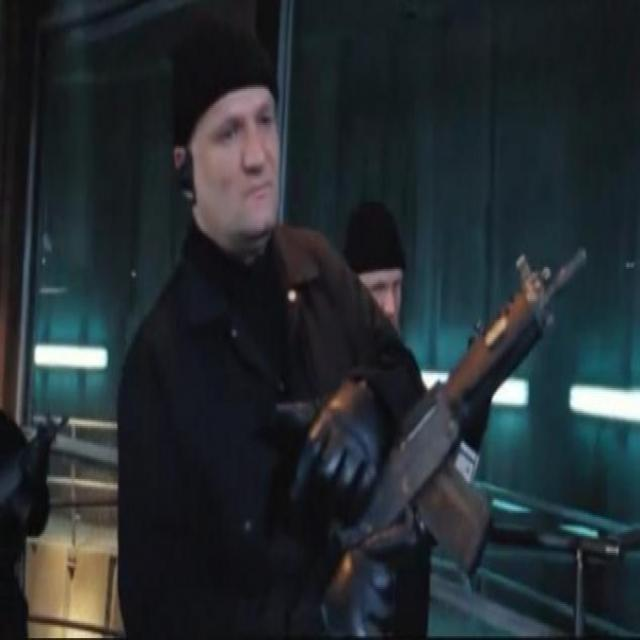rifle: (325, 243, 596, 596)
